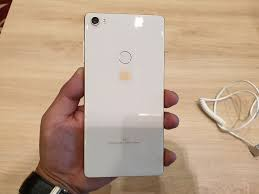bphone: (81, 10, 166, 178)
